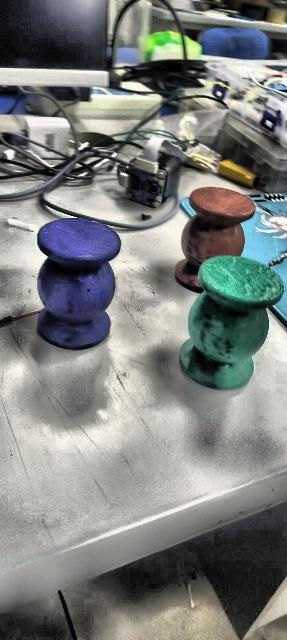blue: (35, 217, 120, 349)
green: (176, 254, 285, 390)
red: (174, 187, 257, 292)
